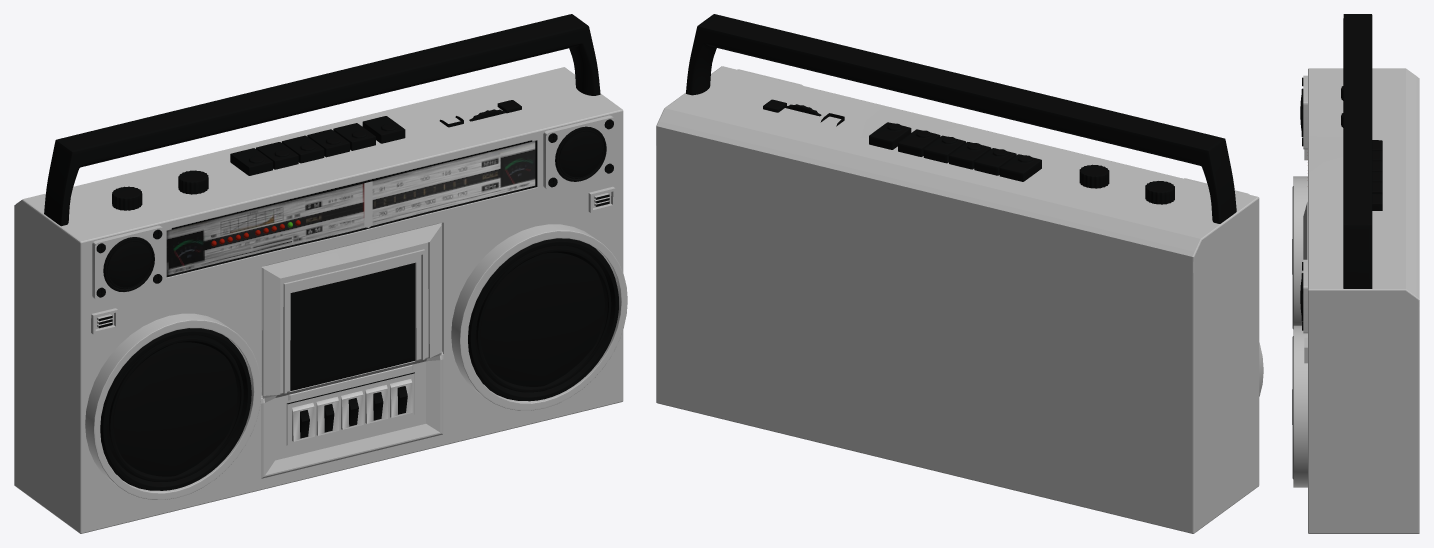
The model's file is radio_1.glb.
3 renders of one model, left to right at view 1: azimuth 30°, elevation 25°; view 2: azimuth 150°, elevation 25°; view 3: azimuth 270°, elevation 25°, orthographic. The views are drawn at different scales.
Visible parts, largest first — view 1: Box, M2, M1, display, F1, S2, S4, S1, S3, S5, F6, F3 (+3 smaller); view 2: Box, F1, F6, F5, F2, F4, F3; view 3: Box, F6.
Part boxes in pixels (bbox=[...]): Box: bbox=[14, 14, 627, 533]; M2: bbox=[474, 244, 607, 392]; M1: bbox=[106, 334, 237, 481]; display: bbox=[290, 263, 415, 390]; F1: bbox=[230, 148, 272, 175]; S2: bbox=[316, 396, 339, 435]; S4: bbox=[365, 385, 388, 423]; S1: bbox=[292, 402, 314, 441]; S3: bbox=[341, 391, 363, 429]; S5: bbox=[390, 379, 412, 417]; F6: bbox=[362, 116, 405, 143]; F3: bbox=[281, 135, 324, 163]; Box: bbox=[656, 14, 1263, 533]; F1: bbox=[999, 154, 1041, 181]; F6: bbox=[869, 122, 911, 149]; F5: bbox=[898, 129, 940, 156]; F2: bbox=[974, 148, 1016, 175]; F4: bbox=[923, 135, 965, 163]; F3: bbox=[949, 142, 991, 169]; Box: bbox=[1292, 14, 1419, 533]; F6: bbox=[1372, 194, 1382, 210].
Bounding box in the file's own units: 0.7217 × 0.4618 × 0.1755.
Materials: 1 (1 with a texture image).
